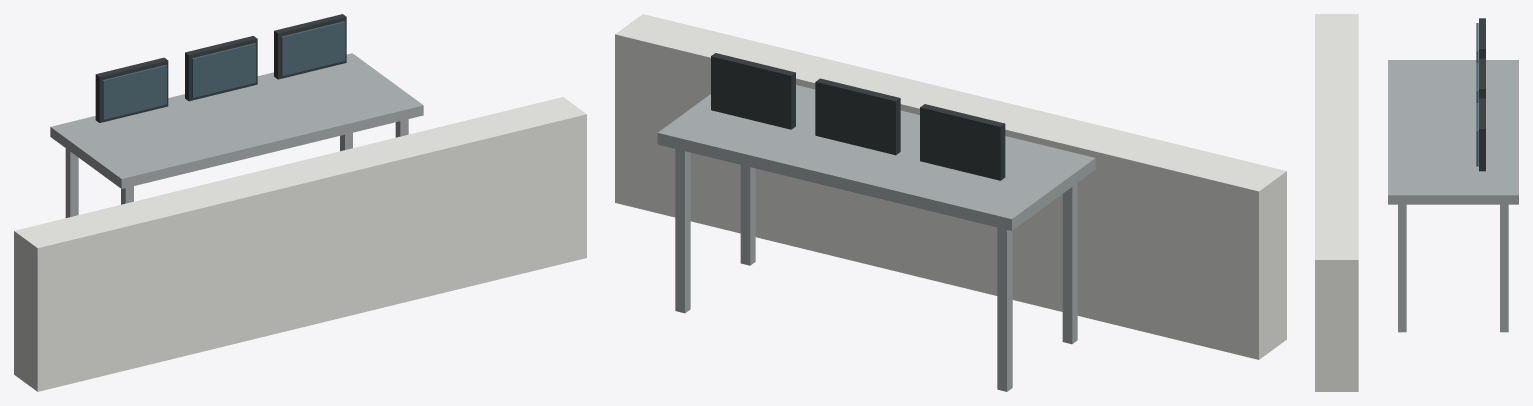
The model's file is pit-wall-monitor-stand.glb.
3 views of the same model, side by side, from view 1: azimuth 30°, elevation 25°; view 2: azimuth 150°, elevation 25°; view 3: azimuth 270°, elevation 25° (orthographic). The views are drawn at different scales.
Parts seen in each view (by area): view 1: pit-wall-monitor-stand; view 2: pit-wall-monitor-stand; view 3: pit-wall-monitor-stand.
Boxes of the visible parts, x1=… form: pit-wall-monitor-stand: x1=14, y1=14, x2=586, y2=391; pit-wall-monitor-stand: x1=615, y1=14, x2=1286, y2=391; pit-wall-monitor-stand: x1=1315, y1=14, x2=1518, y2=391.
Bounding box in the file's own units: 4 × 1.48 × 1.4.
